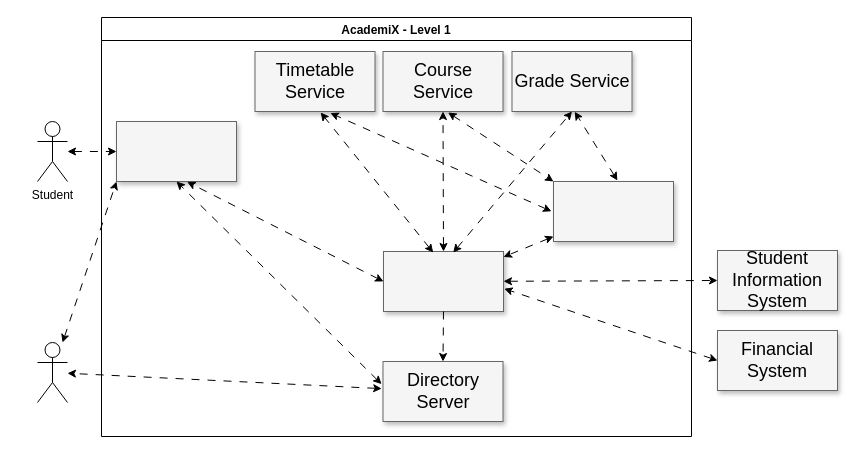
The diagram is 861 pixels wide and 454 high, and some of its shapes have lost their labels. Each missing label, with the centre of its shape:
"Administrator" goes at (x=52, y=372).
"Core Component" goes at (x=444, y=282).
"Database" goes at (x=614, y=212).
"Web Server" goes at (x=177, y=152).
